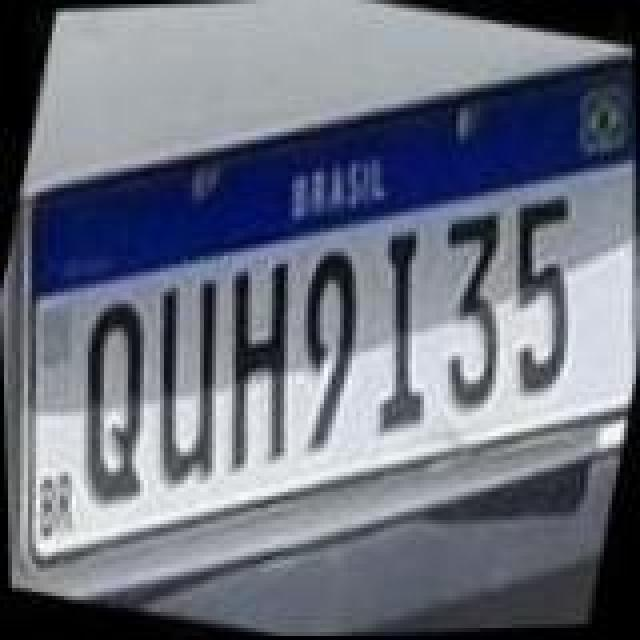3: (408, 196, 536, 412)
5: (470, 182, 602, 406)
9: (266, 242, 378, 454)
H: (186, 248, 330, 484)
I: (338, 222, 462, 446)
Q: (46, 290, 182, 514)
U: (116, 264, 256, 492)
